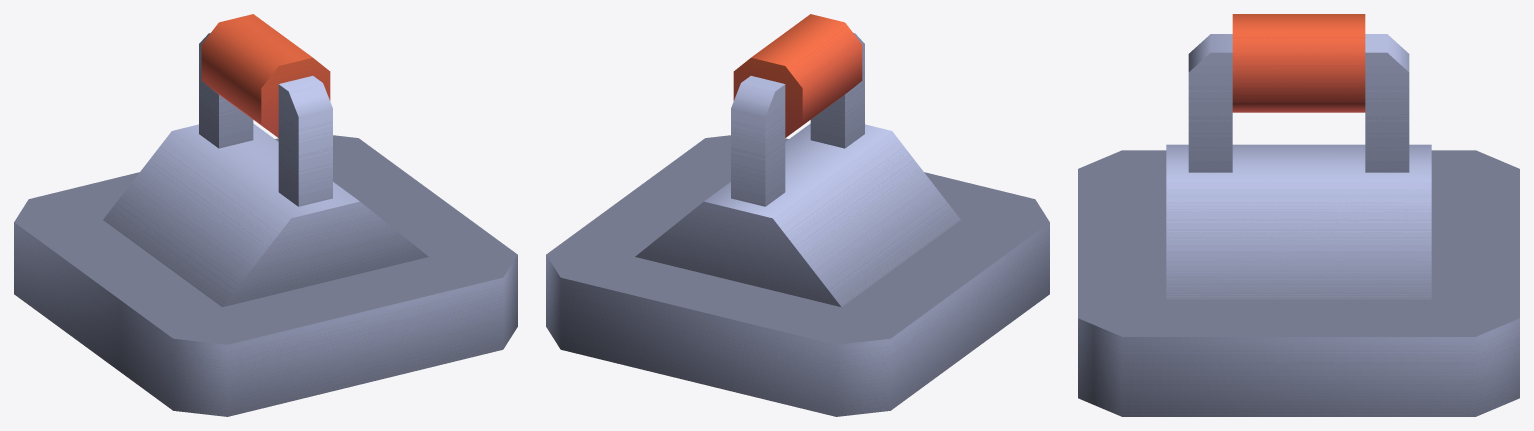
Rendered from lever-double.glb.
The picture shows the model from 3 angles, left to right: view 1: azimuth 30°, elevation 25°; view 2: azimuth 150°, elevation 25°; view 3: azimuth 270°, elevation 25°; orthographic projection. The views are drawn at different scales.
Visible parts, largest first — view 1: lever-double, handle; view 2: lever-double, handle; view 3: lever-double, handle.
Boxes of the visible parts, x1,y1,x2,y2 form: lever-double: [14, 123, 517, 416]; handle: [199, 14, 332, 206]; lever-double: [546, 123, 1049, 416]; handle: [731, 14, 864, 206]; lever-double: [1078, 144, 1519, 416]; handle: [1188, 14, 1409, 172].
Bounding box in the file's own units: 0.5 × 0.375 × 0.5.
Materials: 1 (1 with a texture image).
